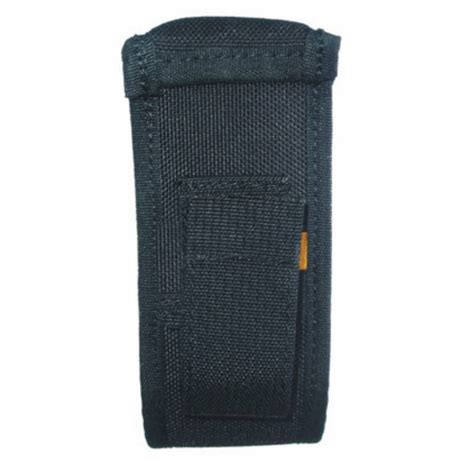nylon: (121, 16, 344, 448)
